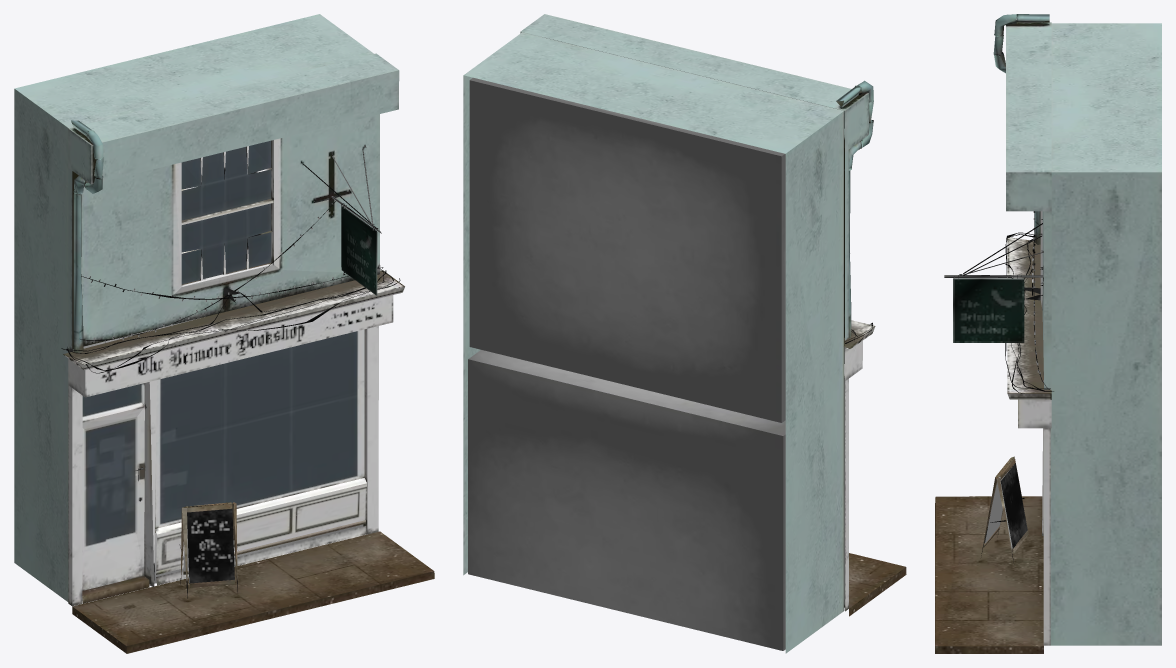
File: bookshop_lod1.glb
The picture shows the model from 3 angles, left to right: view 1: azimuth 30°, elevation 25°; view 2: azimuth 150°, elevation 25°; view 3: azimuth 270°, elevation 25°; orthographic projection. The views are drawn at different scales.
Parts seen in each view (by area): view 1: bookshop; view 2: bookshop; view 3: bookshop.
Boxes of the visible parts, x1,y1,x2,y2 form: bookshop: (14, 14, 434, 653); bookshop: (463, 14, 906, 653); bookshop: (935, 14, 1161, 653).
Size of the model in its own units: 5.2 by 7.48 by 3.13.
Materials: 1 (1 with a texture image).
